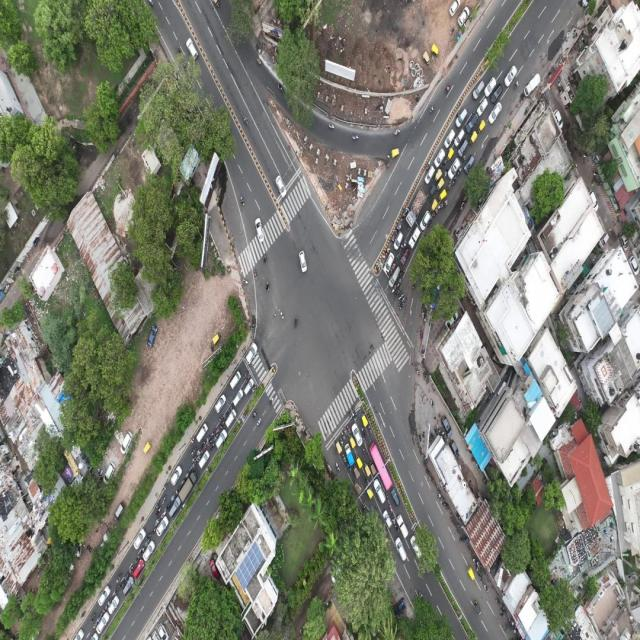3W: (143, 439, 153, 456), (466, 565, 475, 581), (391, 147, 401, 161), (212, 331, 221, 346), (334, 439, 343, 454), (446, 147, 455, 162), (430, 197, 439, 212), (476, 119, 486, 132), (469, 131, 478, 145), (473, 600, 481, 615), (354, 480, 362, 495), (430, 44, 439, 57), (361, 412, 368, 428), (356, 455, 363, 470), (423, 51, 430, 66), (362, 501, 370, 514), (434, 169, 442, 182), (438, 190, 447, 201), (428, 185, 436, 197), (395, 52, 404, 62)
Bus: (368, 441, 392, 491)
Cars: (118, 430, 133, 455), (185, 35, 199, 60), (488, 102, 503, 125), (275, 173, 287, 199), (133, 528, 147, 550), (441, 414, 453, 438), (395, 536, 407, 560), (147, 323, 158, 349), (98, 585, 111, 607), (96, 611, 109, 633), (169, 497, 182, 519), (504, 65, 517, 87), (104, 461, 115, 486), (457, 6, 470, 27), (448, 158, 461, 179), (143, 539, 155, 561), (156, 516, 169, 536), (484, 77, 497, 97), (454, 108, 467, 128), (411, 534, 422, 557), (198, 451, 211, 470), (246, 342, 257, 364), (196, 423, 208, 443), (214, 393, 226, 413), (466, 113, 478, 133), (434, 148, 446, 168), (393, 598, 406, 616), (444, 128, 455, 149), (384, 252, 394, 275), (589, 189, 599, 212), (463, 155, 475, 174), (255, 217, 264, 242), (299, 248, 308, 273), (114, 500, 125, 520), (620, 230, 630, 252), (628, 255, 639, 275), (215, 430, 227, 448), (133, 559, 144, 578), (477, 97, 488, 116), (553, 108, 563, 128), (455, 127, 465, 147), (425, 164, 435, 184), (123, 577, 134, 595), (244, 377, 254, 396), (210, 559, 219, 580), (233, 389, 244, 406), (449, 0, 460, 17), (382, 510, 392, 528), (394, 230, 403, 250), (109, 596, 119, 614), (451, 440, 460, 459), (400, 247, 409, 266), (599, 233, 611, 247), (391, 488, 400, 506)
LCV: (396, 514, 408, 539), (408, 227, 421, 250), (345, 443, 355, 466), (225, 408, 236, 426), (230, 371, 241, 389)
M2W: (252, 408, 258, 419), (240, 195, 245, 207), (116, 573, 122, 583), (256, 57, 262, 66), (278, 83, 284, 92), (256, 416, 262, 425), (191, 447, 197, 456), (162, 483, 168, 492), (129, 564, 135, 573), (418, 590, 424, 599), (294, 316, 298, 329), (329, 119, 334, 129), (269, 396, 274, 406), (115, 585, 120, 595), (242, 279, 249, 286), (161, 496, 167, 504), (363, 435, 367, 447), (243, 116, 248, 125), (253, 271, 258, 280), (154, 501, 159, 510), (348, 412, 353, 421), (362, 447, 367, 456), (394, 252, 399, 261), (209, 343, 214, 352), (266, 280, 270, 291), (218, 416, 224, 423), (191, 455, 197, 462), (353, 134, 359, 141), (398, 294, 404, 301), (411, 282, 417, 289), (427, 219, 433, 226), (451, 178, 457, 185), (263, 254, 267, 264), (92, 613, 96, 623), (352, 412, 357, 420), (336, 462, 340, 472), (362, 426, 366, 436), (368, 424, 372, 434), (445, 85, 450, 93), (446, 183, 451, 191), (206, 435, 212, 441), (207, 440, 213, 446), (192, 462, 198, 468), (153, 526, 157, 535), (91, 623, 97, 629), (392, 515, 396, 524), (344, 427, 348, 436), (395, 129, 401, 135), (399, 302, 403, 311), (397, 278, 401, 287), (399, 270, 405, 276), (430, 106, 435, 113), (391, 285, 396, 292), (397, 287, 402, 294), (389, 237, 394, 244), (438, 203, 443, 210), (443, 200, 448, 207), (420, 330, 423, 341), (244, 371, 248, 379), (191, 436, 194, 446), (386, 490, 389, 500), (347, 424, 350, 433), (444, 169, 447, 178), (146, 533, 151, 538), (403, 241, 407, 247), (399, 222, 402, 230), (401, 214, 404, 221)
MAV: (406, 188, 427, 226)
Truck: (179, 467, 198, 502), (524, 73, 540, 96)
